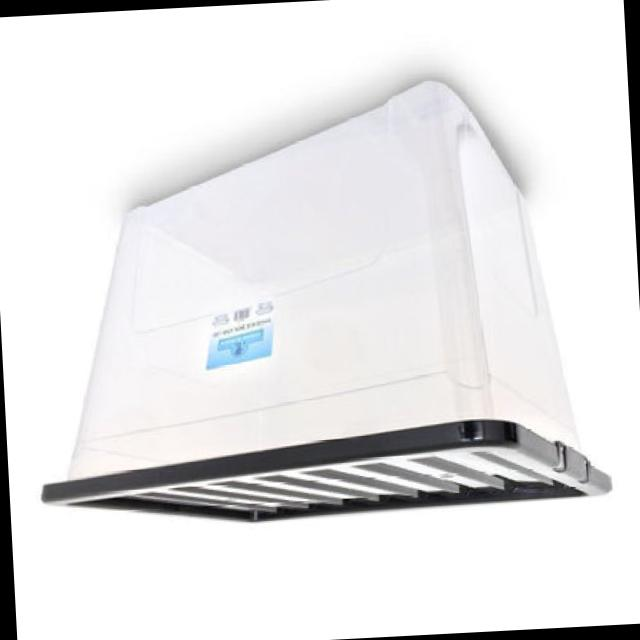plastic_box: (41, 104, 618, 562)
